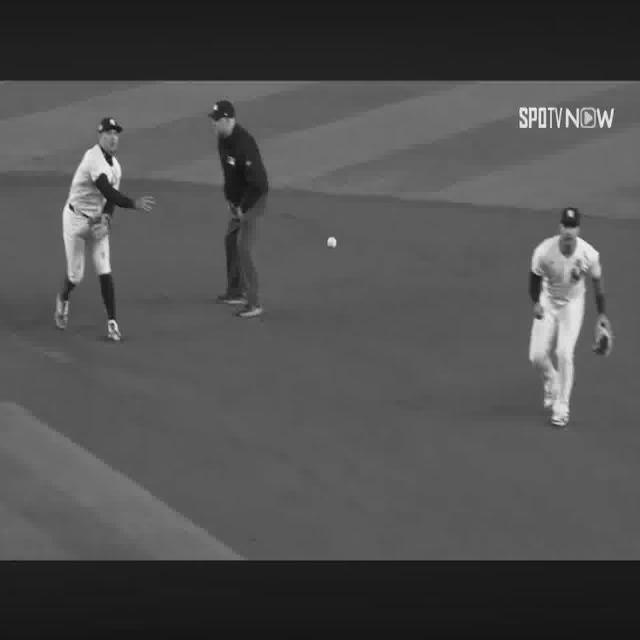baseball: (327, 236, 337, 248)
baseball_glove: (592, 313, 614, 357), (89, 213, 111, 240)
shoe: (544, 380, 560, 412), (55, 297, 69, 330), (551, 403, 569, 428), (218, 291, 248, 305), (236, 304, 264, 318), (108, 318, 122, 342)
